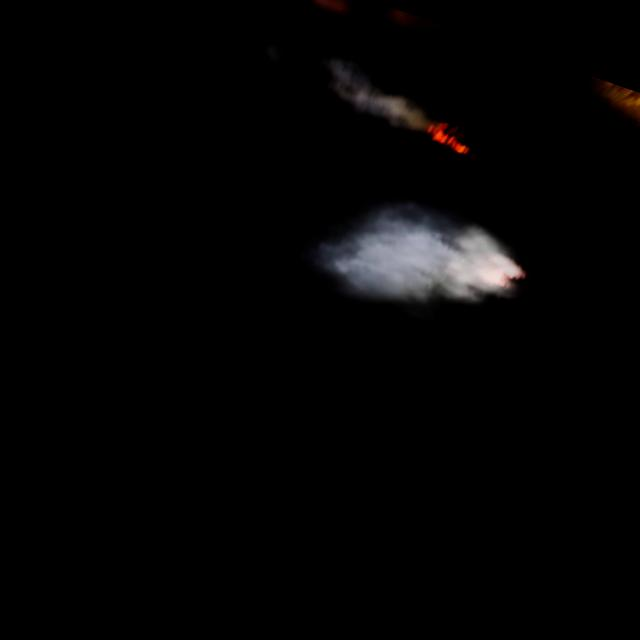fire: (596, 80, 640, 135), (428, 124, 478, 157)
smoke: (290, 168, 536, 353), (318, 58, 448, 137)
